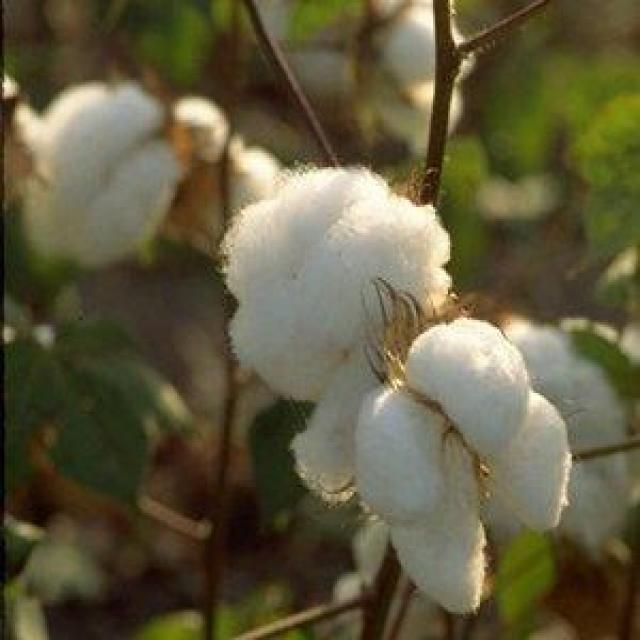Leaf: (216, 155, 481, 516), (350, 307, 583, 626)
